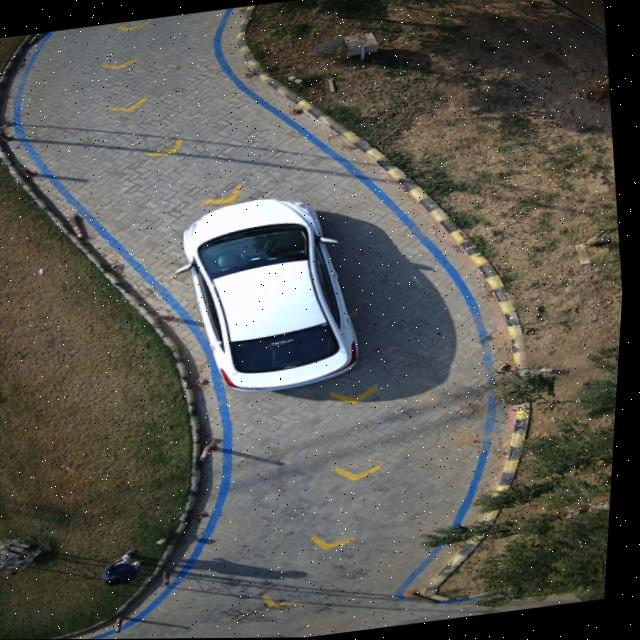car: (183, 198, 361, 391)
